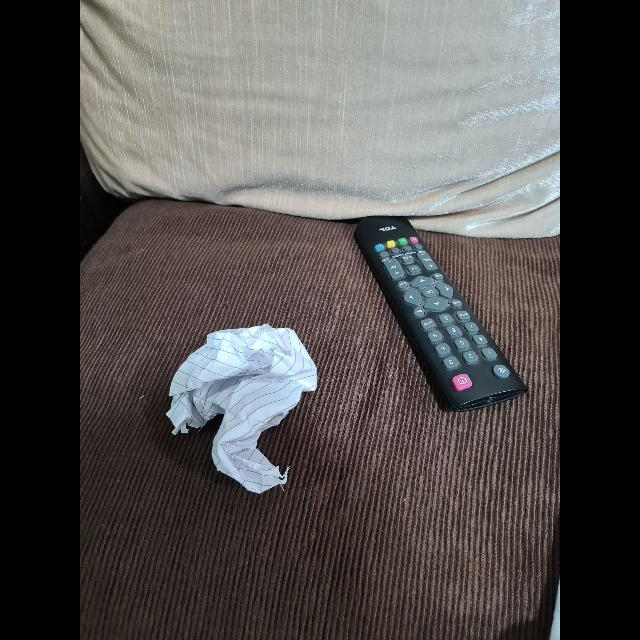scrap_paper: (168, 319, 316, 489)
